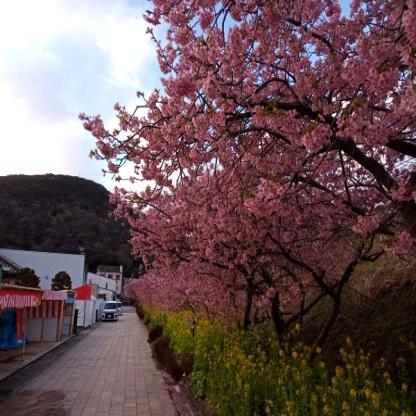KawazuSakura: (78, 0, 416, 372)
